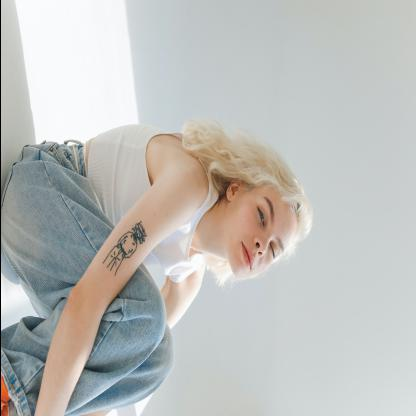Eye: (254, 203, 267, 229), (268, 238, 280, 260)
Mouth: (237, 236, 256, 274)
Nose: (252, 233, 271, 260)
